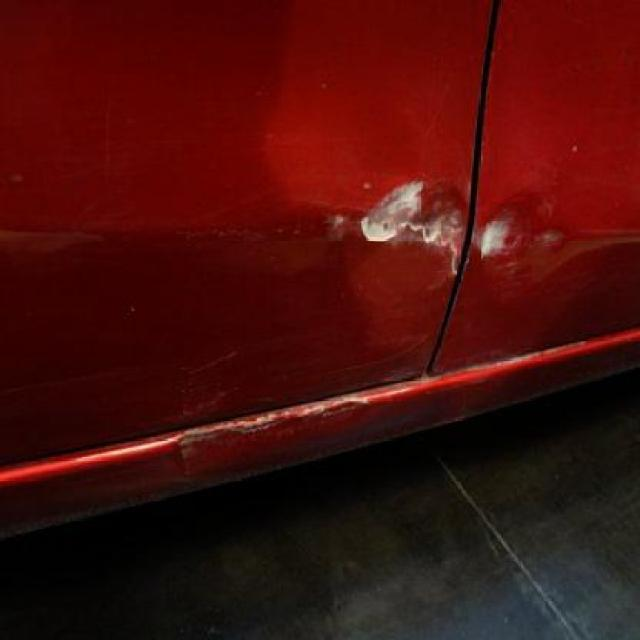car damage: (300, 150, 616, 307), (166, 377, 388, 476)
